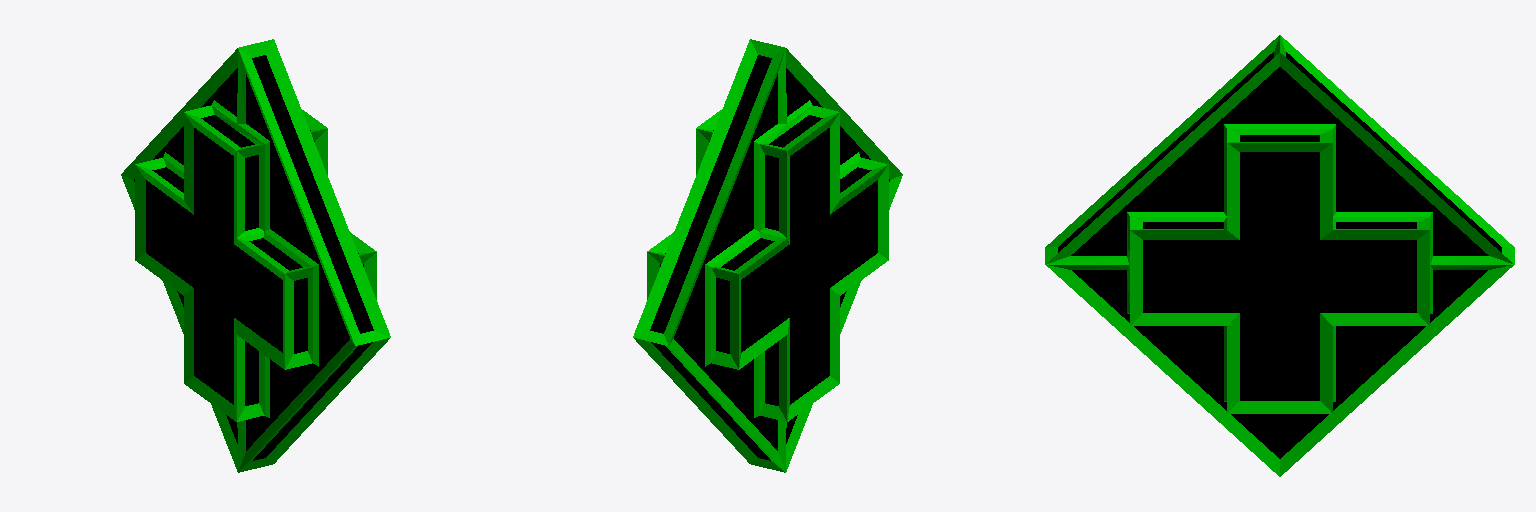
File: health.obj
3 renders of one model, left to right at view 1: azimuth 30°, elevation 25°; view 2: azimuth 150°, elevation 25°; view 3: azimuth 270°, elevation 25°, orthographic.
Visible parts, largest first — view 1: Cube, Cube.001_Cube.002; view 2: Cube, Cube.001_Cube.002; view 3: Cube, Cube.001_Cube.002.
Part boxes in pixels (x1,y1,x2,y2): Cube: (134,55,373,460); Cube.001_Cube.002: (121,39,390,472); Cube: (650,55,889,460); Cube.001_Cube.002: (633,39,902,472); Cube: (1058,52,1501,458); Cube.001_Cube.002: (1045,35,1514,476).
Bounding box in the file's own units: 0.6573 × 2.91 × 2.91.